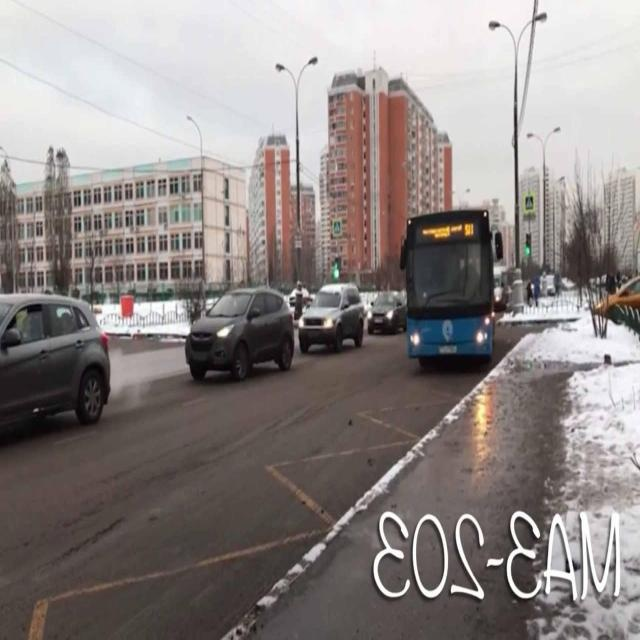Bus: (389, 205, 505, 368)
